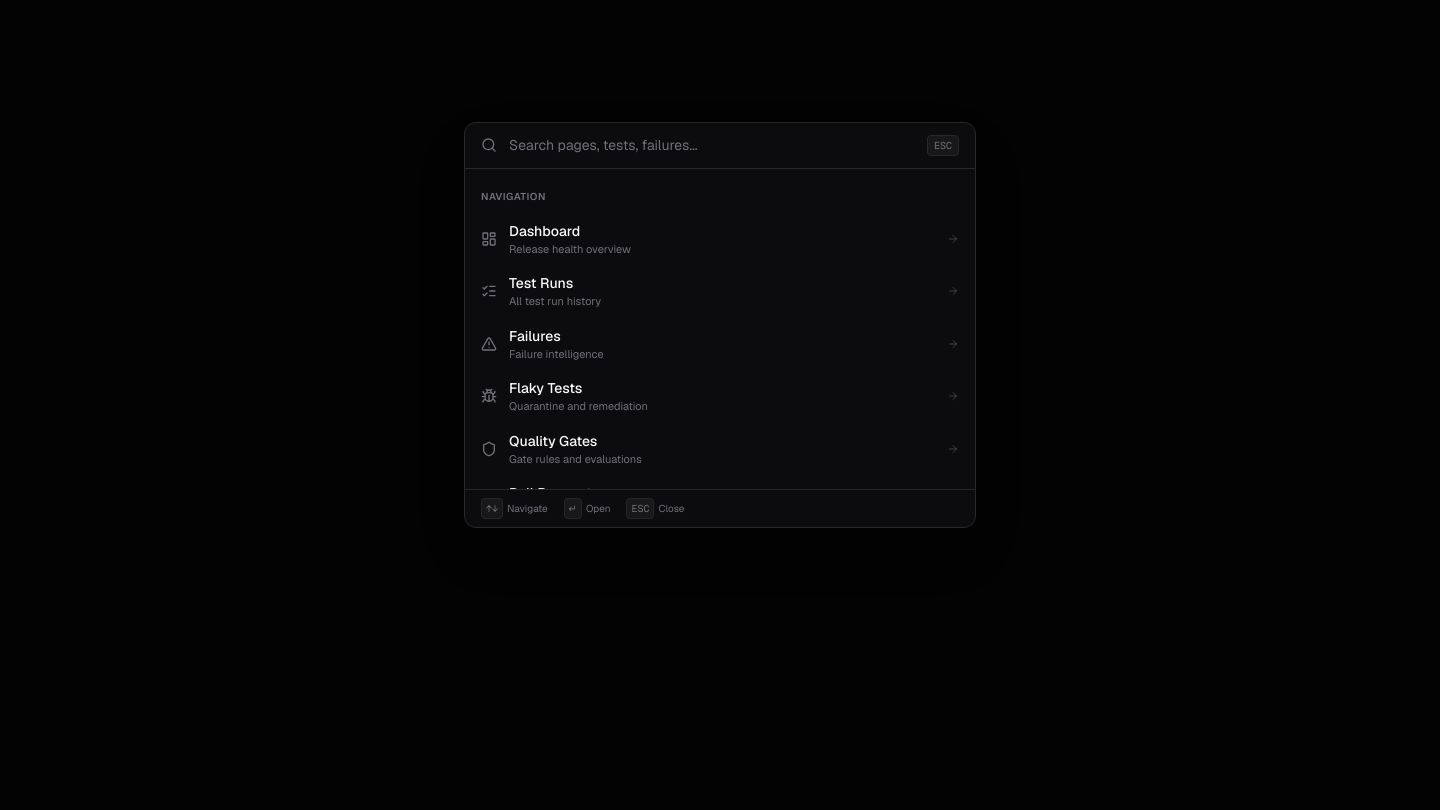
it: CommandSearch › groups results under a heading per category
Type "gate" into the field at (712, 145), box [509, 135, 915, 155]
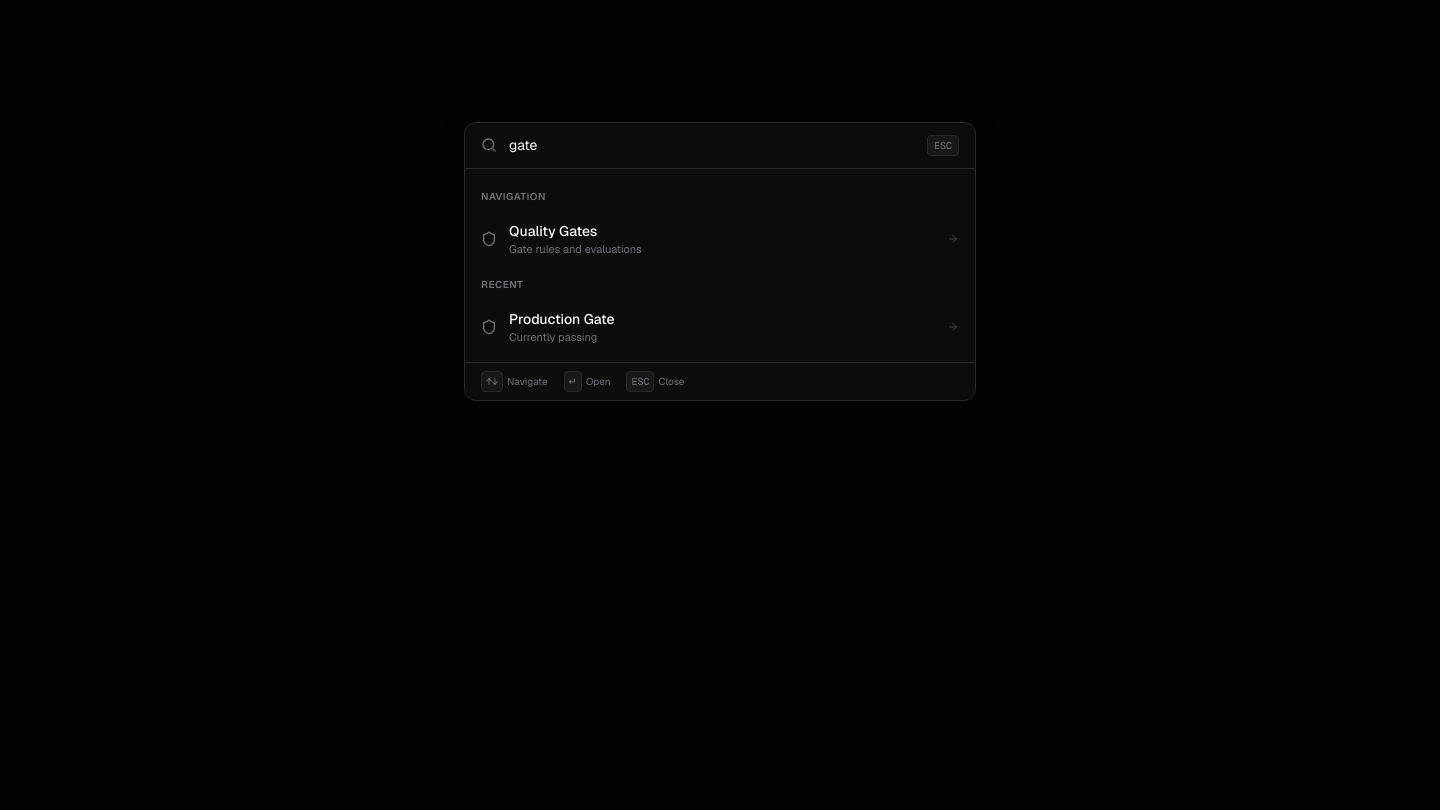
Check: the text "Navigation" is shown, box [481, 190, 546, 202]
Check: the text "Recent" is shown, box [481, 278, 523, 291]
Check: the text "Production Gate" is shown, box [509, 310, 615, 328]
